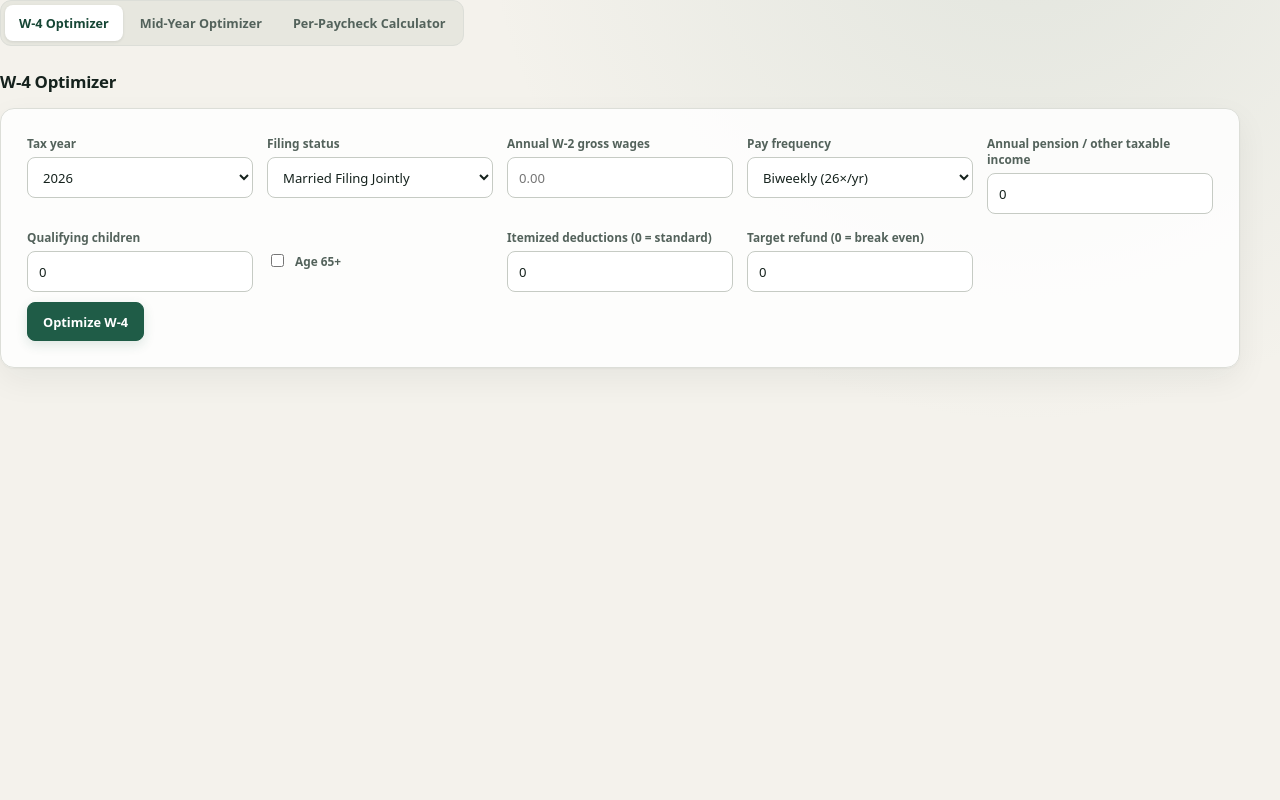
W4Page › renders mid-year response details after successful optimization
Click the button "Mid-Year Optimizer".
click(201, 23)  # box [126,5,276,41]
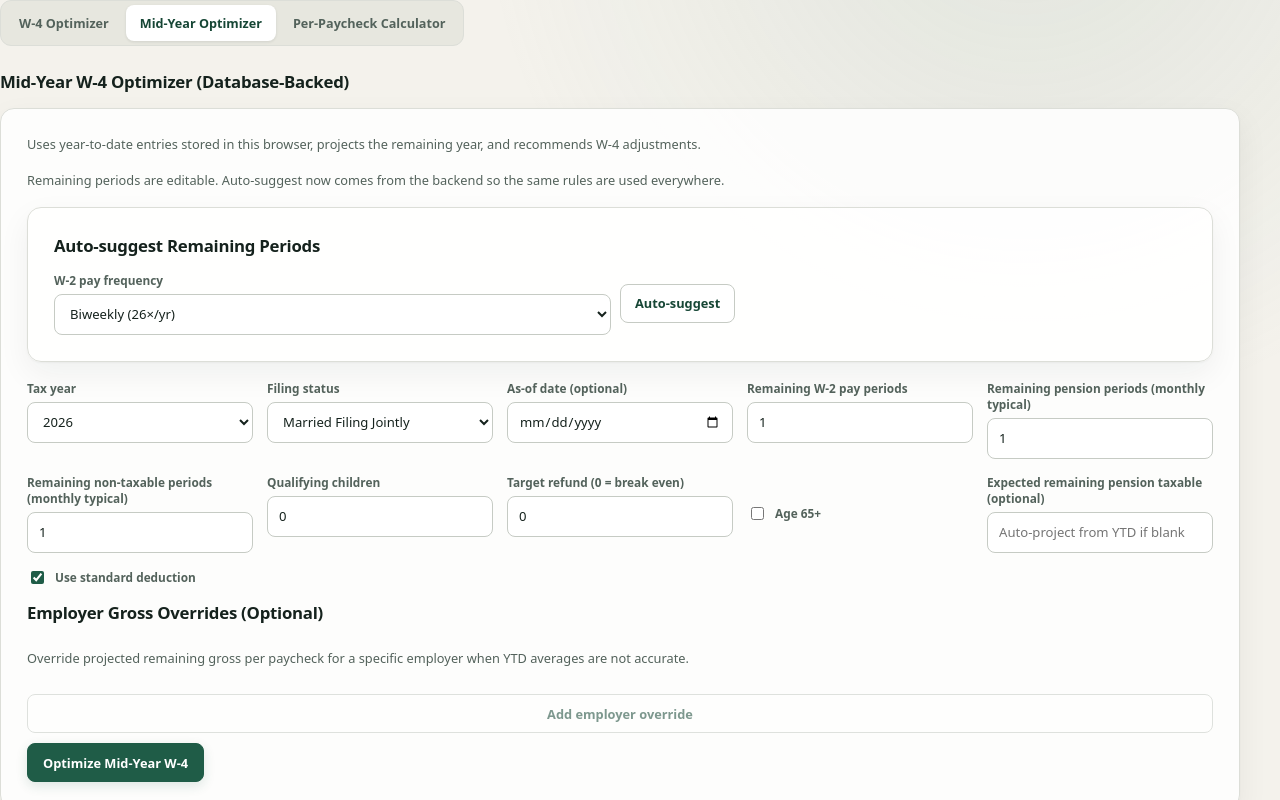
Click the button "Optimize Mid-Year W-4".
click(116, 763)  # box [27,744,204,782]
(page scrolled)
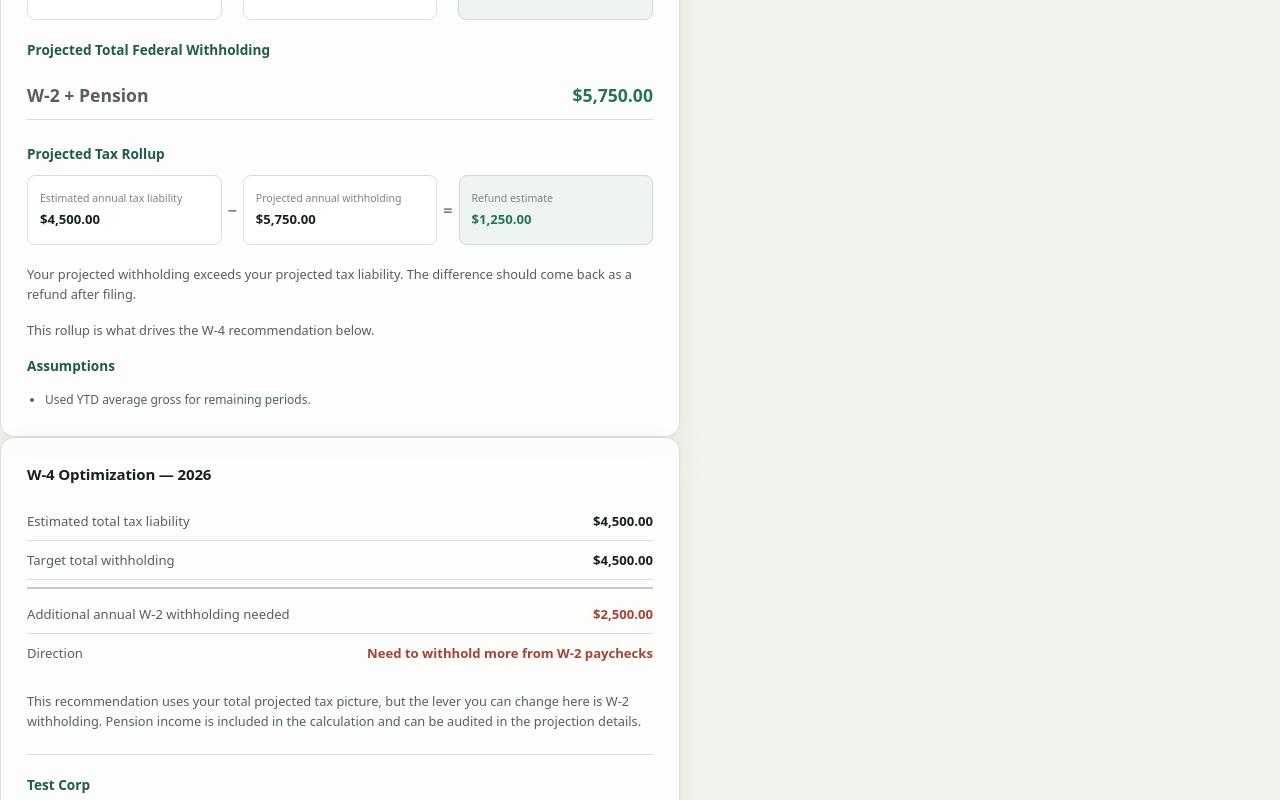
Expected: the heading "Projected Tax Rollup" is shown, [27,144,165,163]
Expected: the heading "Assumptions" is shown, [27,356,115,376]
Expected: the list item "Used YTD average gross for remaining periods." is shown, [45,392,311,408]
